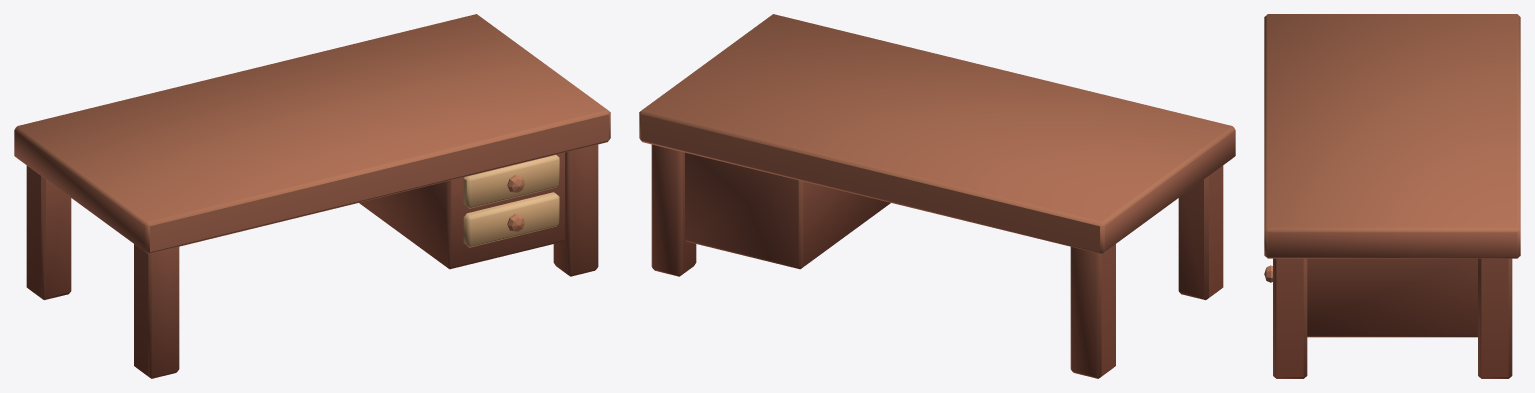
File: desk.glb
3 views of the same model, side by side, from view 1: azimuth 30°, elevation 25°; view 2: azimuth 150°, elevation 25°; view 3: azimuth 270°, elevation 25° (orthographic). The views are drawn at different scales.
Visible parts, largest first — view 1: desk; view 2: desk; view 3: desk.
Part boxes in pixels (x1,y1,x2,y2): desk: [14, 14, 610, 378]; desk: [639, 14, 1235, 378]; desk: [1264, 14, 1520, 378].
Bounding box in the file's own units: 3 × 1 × 1.5.
1 material, 1 textured.
